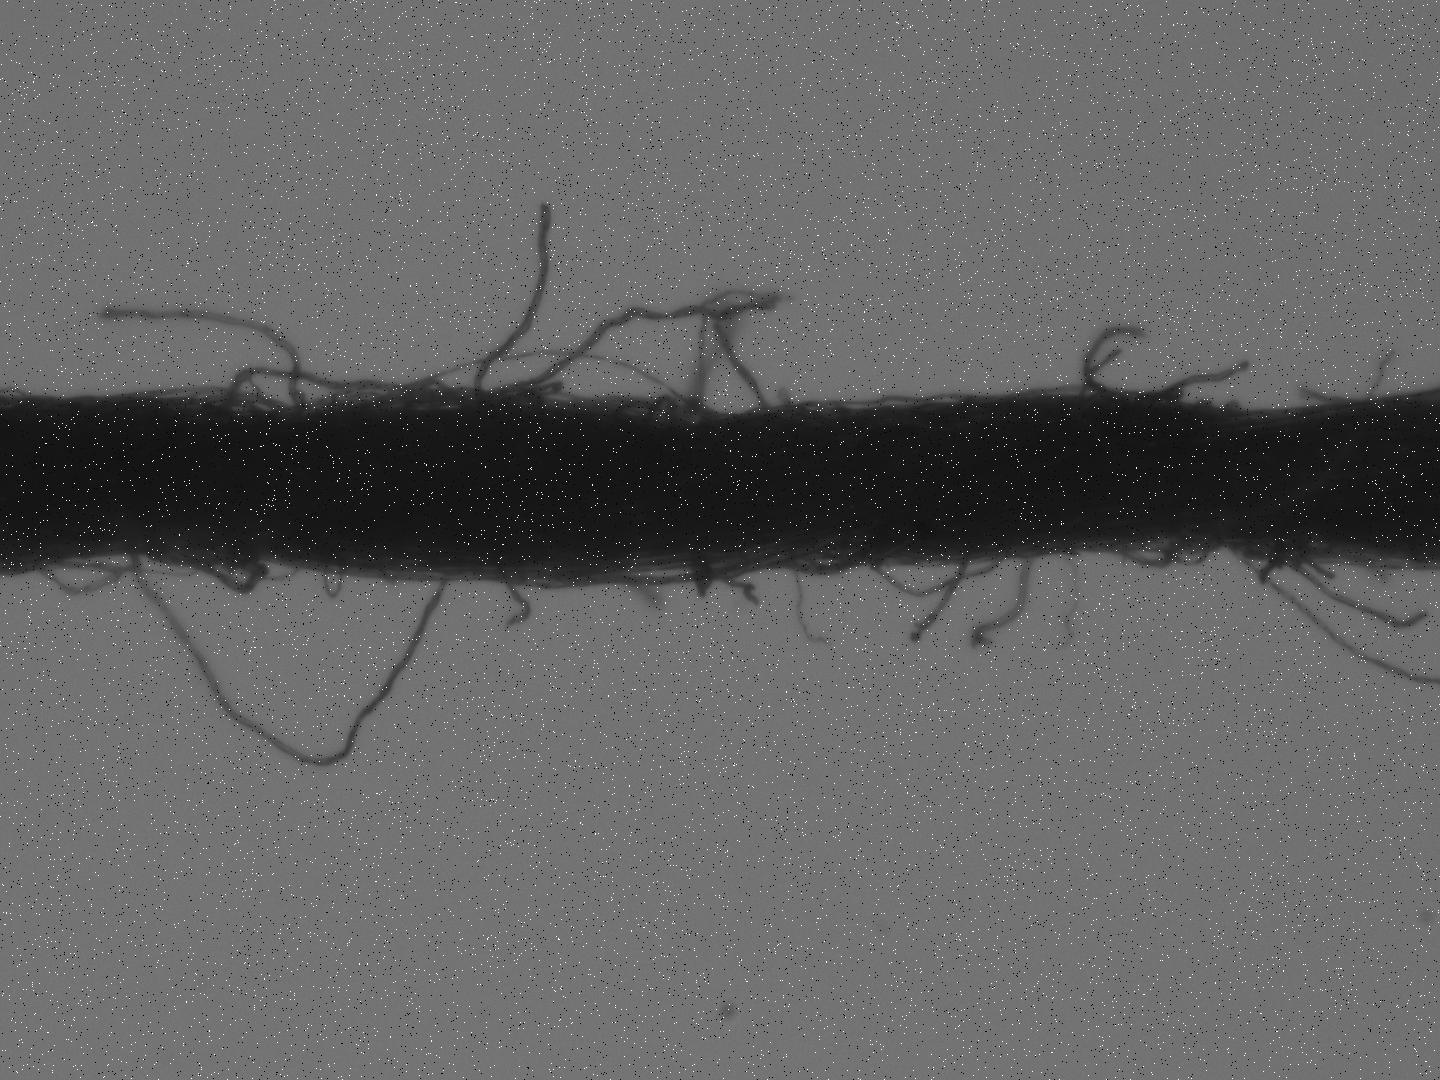loop_fiber: (124, 550, 449, 768), (218, 362, 457, 406), (35, 554, 142, 596), (1107, 537, 1218, 571), (189, 557, 269, 598)
protruding_fiber: (103, 303, 303, 402), (471, 202, 554, 397), (1290, 565, 1433, 630), (968, 552, 1035, 653), (907, 554, 975, 641), (500, 574, 528, 628)
